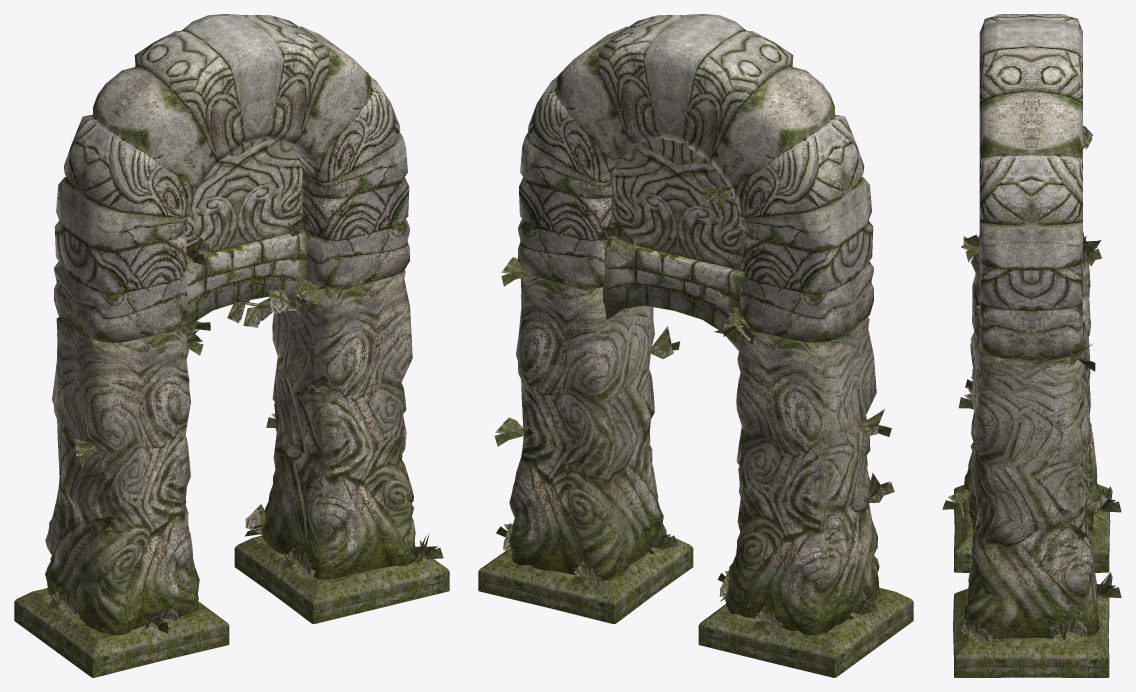
File: Portal.fbx
3 renders of one model, left to right at view 1: azimuth 30°, elevation 25°; view 2: azimuth 150°, elevation 25°; view 3: azimuth 270°, elevation 25°, orthographic. The views are drawn at different scales.
Visible parts, largest first — view 1: LV_WarriorKing_Object_Portal_SM_NWCTCY; view 2: LV_WarriorKing_Object_Portal_SM_NWCTCY; view 3: LV_WarriorKing_Object_Portal_SM_NWCTCY.
Part boxes in pixels (bbox=[...]): LV_WarriorKing_Object_Portal_SM_NWCTCY: bbox=[14, 14, 449, 677]; LV_WarriorKing_Object_Portal_SM_NWCTCY: bbox=[478, 14, 913, 677]; LV_WarriorKing_Object_Portal_SM_NWCTCY: bbox=[942, 14, 1121, 677].
Bounding box in the file's own units: 3.55 × 5.32 × 1.54.
Materials: 2 (2 with a texture image).
